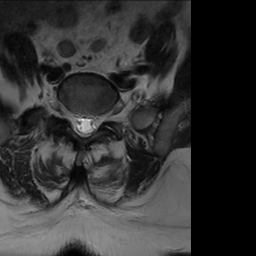CCS_normal: (81, 107, 88, 142)
LFS_normal: (97, 106, 107, 130)
LLS_normal: (88, 108, 96, 139)
RFS_normal: (63, 101, 72, 131)
RLS_normal: (71, 107, 81, 140)
